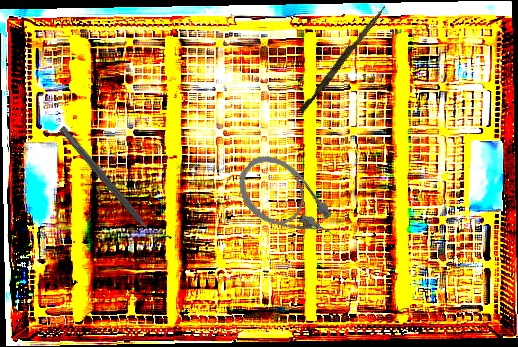Cannula: (226, 143, 349, 265)
Fixation Ring: (52, 119, 173, 254)
Pusher: (299, 2, 387, 115)
